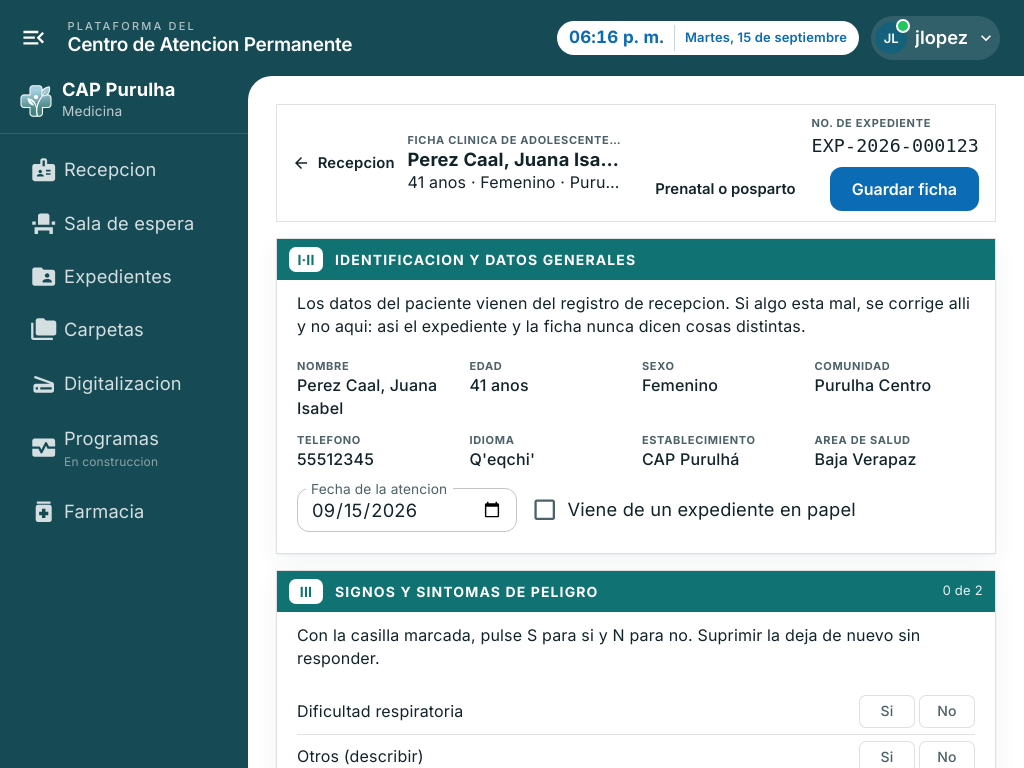
Test: ficha clinica de adultos › no deja guardar sin el motivo de la consulta
This screenshot has width=1024, height=768.
Click the button "Guardar ficha": coordinates (904, 189) [830,167,979,211]
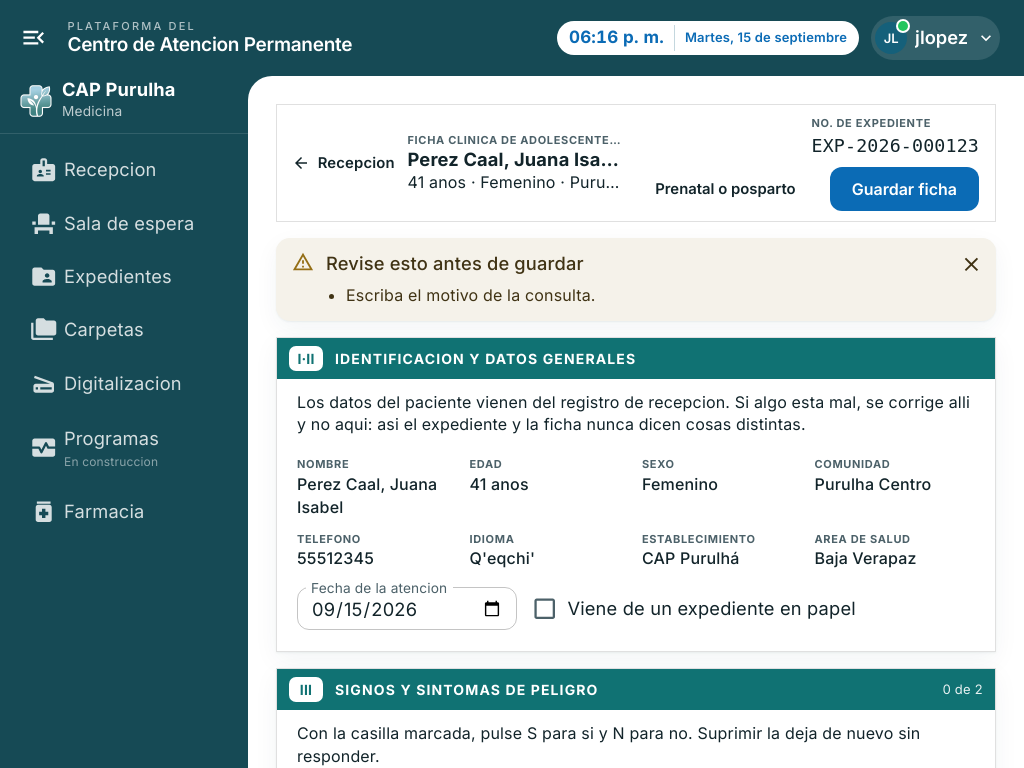
Expected: the text "Revise esto antes de guardar" is shown, [326,250,596,277]
